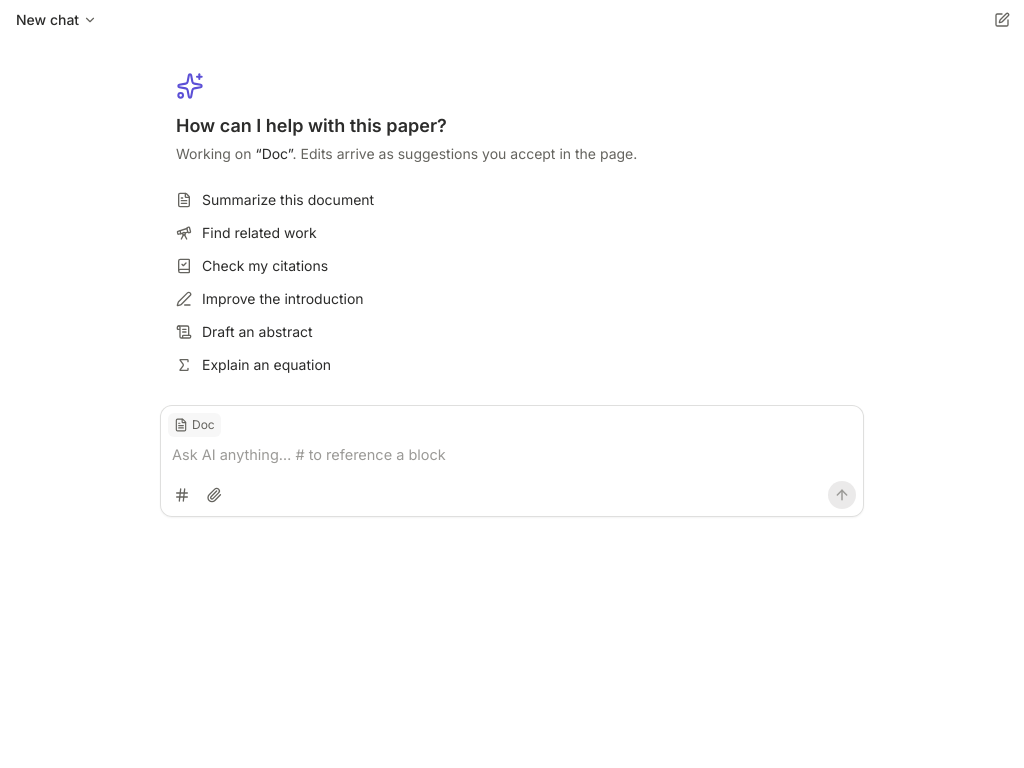
Test: the docked panel › lists this document’s chats in the header and opens the one picked
Click the button with aria-label "Chats:".
click(57, 20)  # box [8,6,105,34]
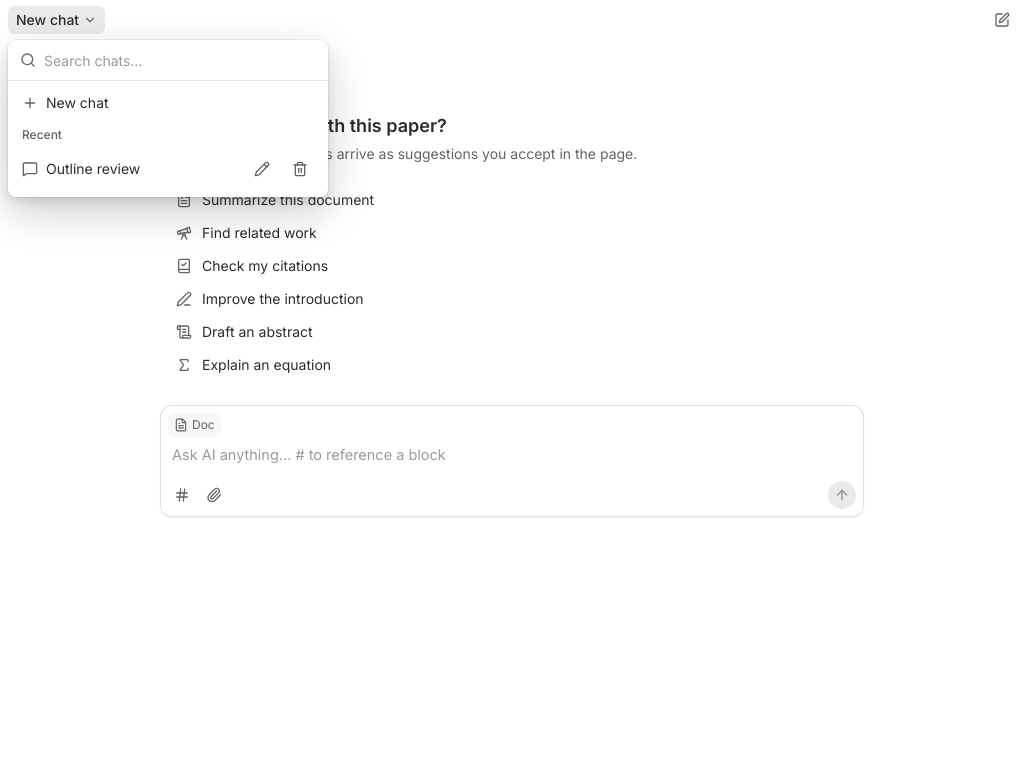
Click the button "Outline review".
click(93, 168)  # box [14,147,322,191]
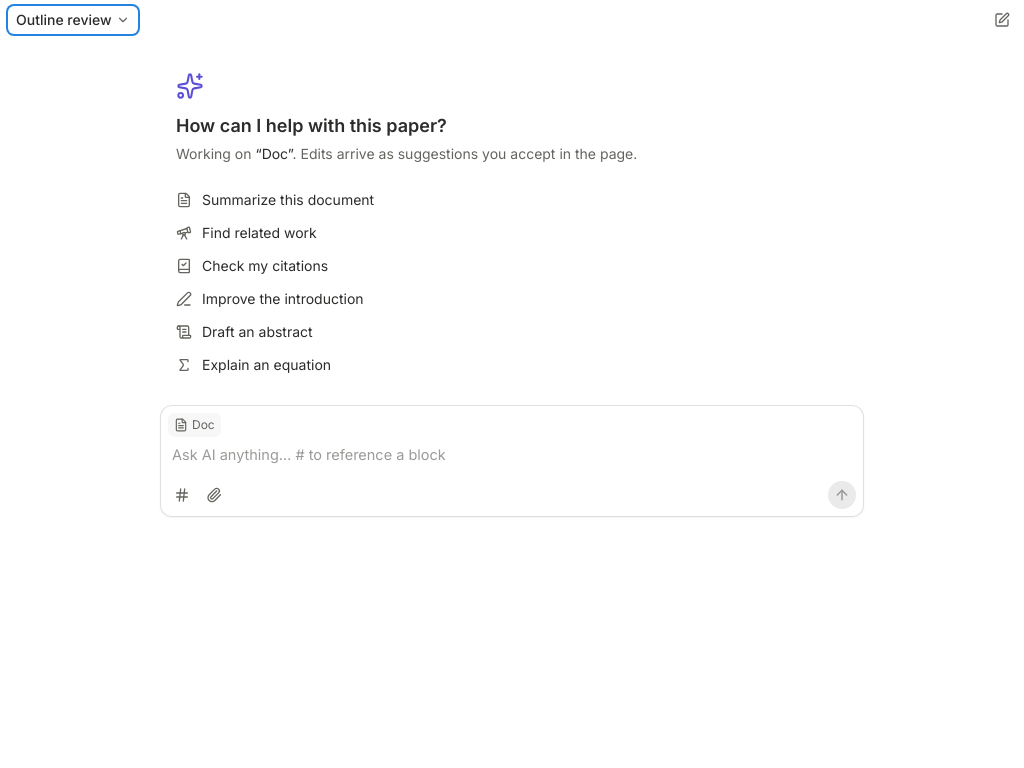
Now the button with aria-label "Chats: Outline review" is shown, box [8,6,138,34]
